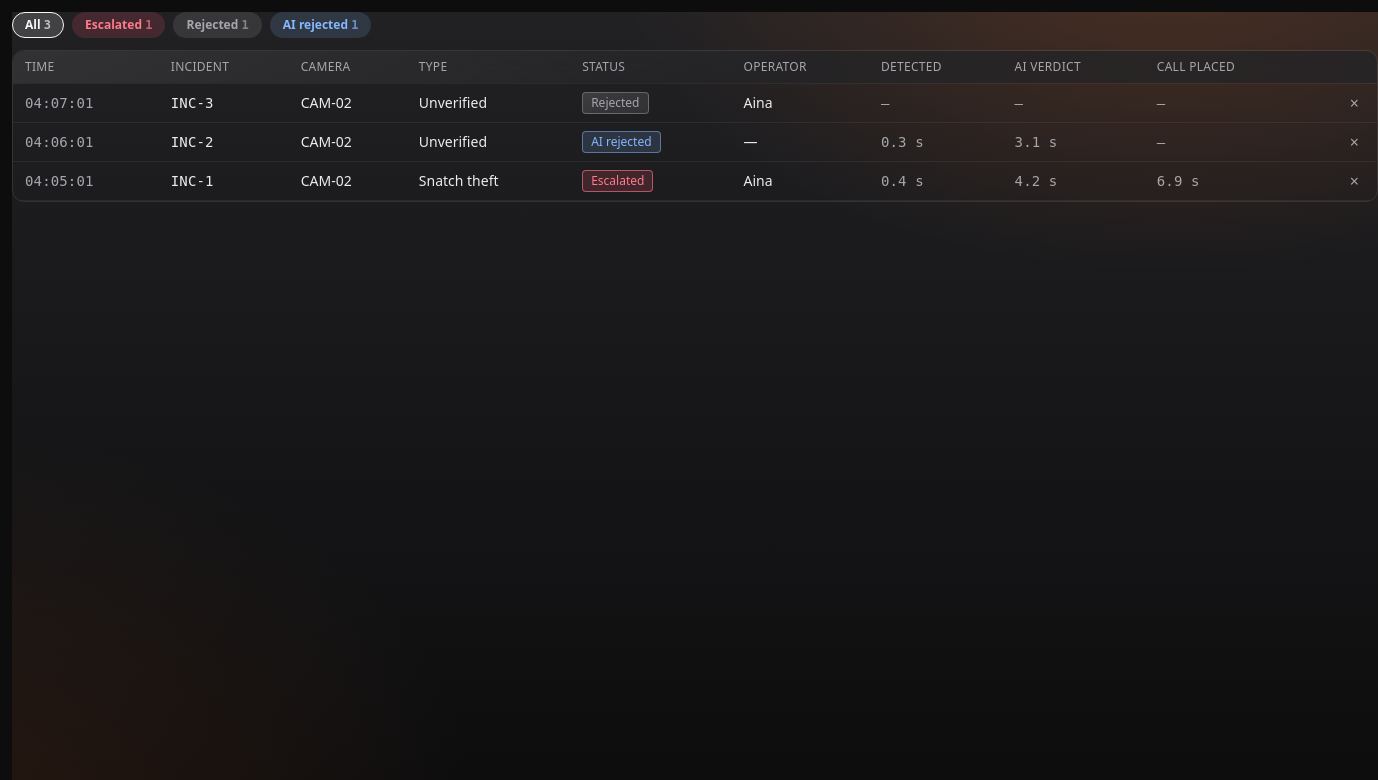
Scenario: IncidentTable › removing a log entry › cancel keeps the incident
Click the button named "Remove INC-1" at (1354, 180), box 1344,170 -> 1365,190
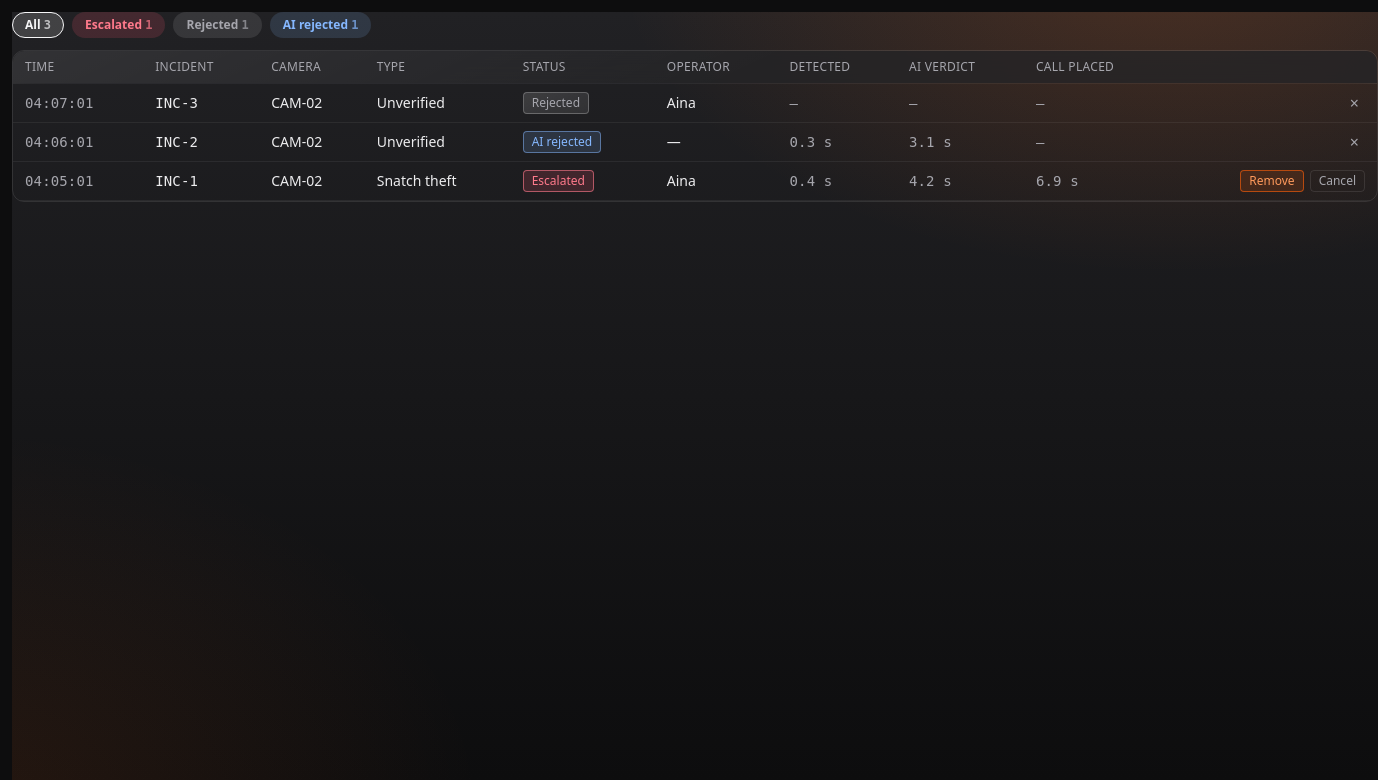
Click the button "Cancel" at (1337, 181), box 1310,170 -> 1365,192
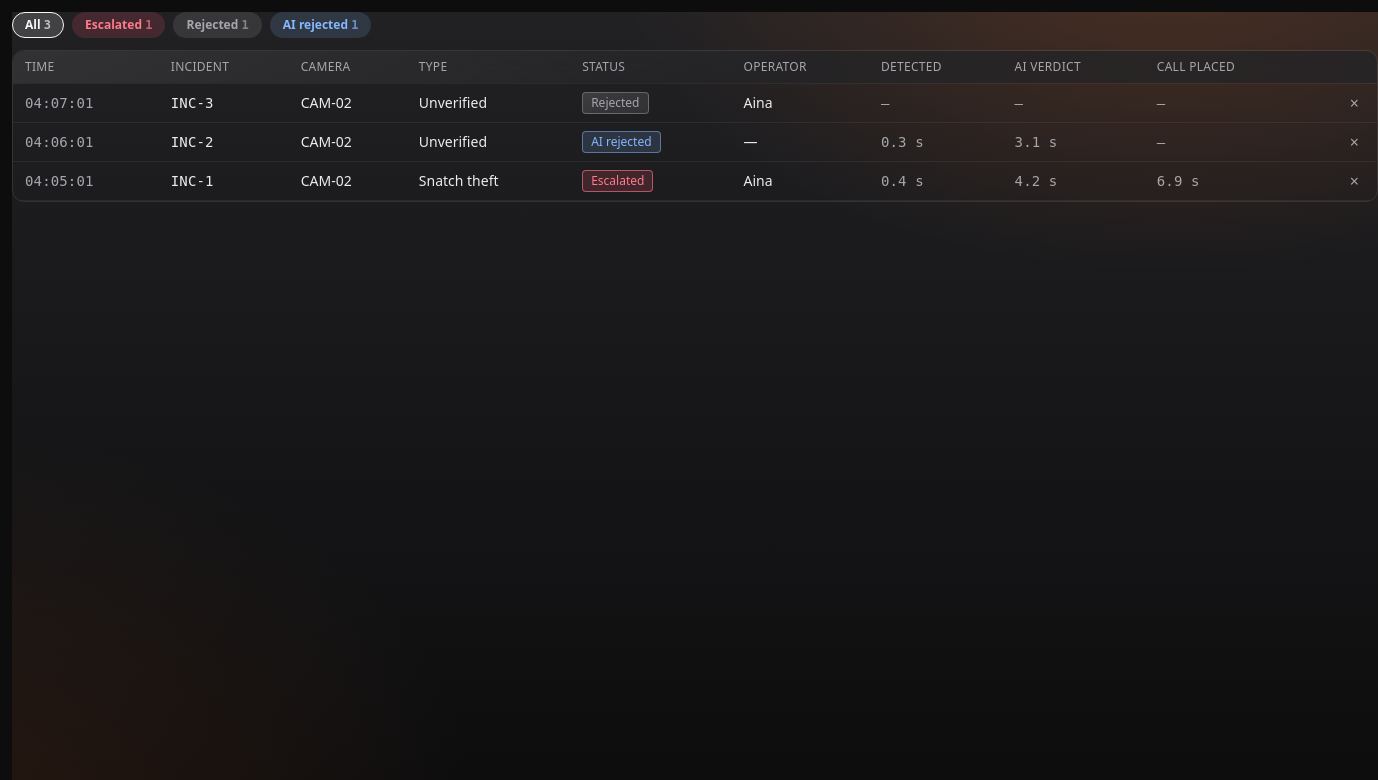
Now the button named "Remove INC-1" is shown, box 1344,170 -> 1365,190
